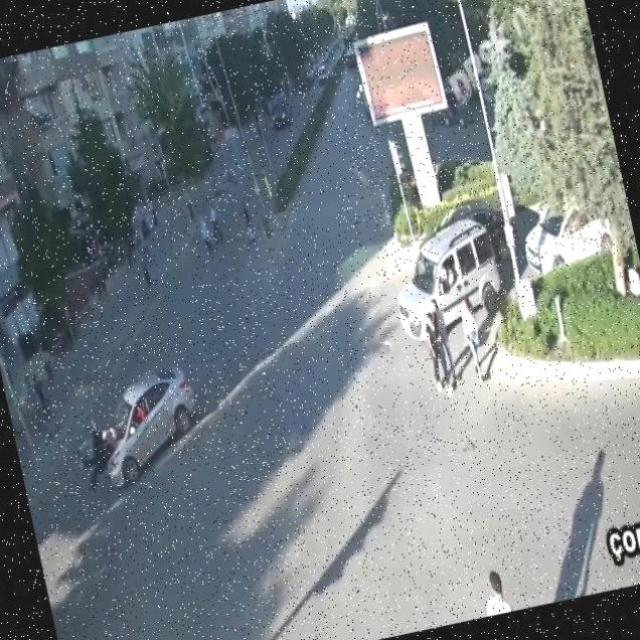accident: (60, 352, 212, 498)
